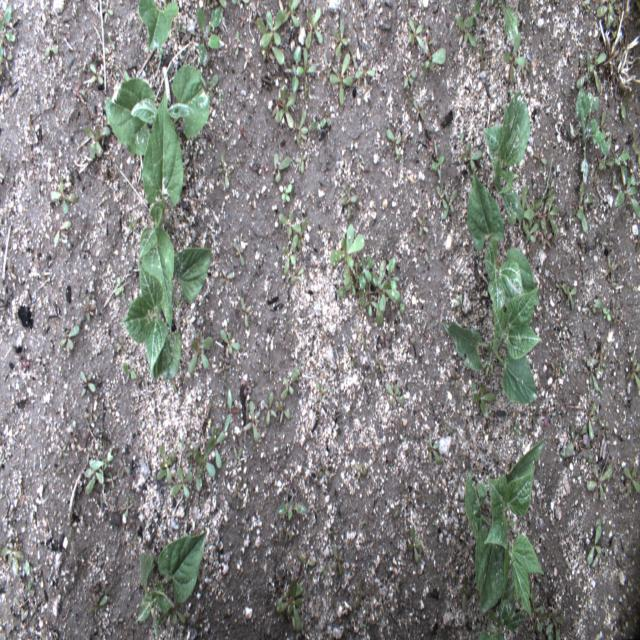crop: (464, 437, 547, 623), (120, 246, 213, 392), (439, 283, 544, 404), (138, 91, 184, 337), (466, 172, 540, 320), (106, 65, 210, 156), (134, 530, 207, 639), (483, 90, 530, 221), (478, 570, 528, 640), (138, 0, 180, 52), (500, 0, 518, 49)
weed: (575, 80, 608, 185), (329, 222, 374, 297), (364, 258, 401, 326), (197, 6, 223, 67), (525, 190, 559, 234), (276, 578, 302, 633), (613, 164, 639, 218), (576, 51, 607, 96), (256, 19, 285, 66), (194, 436, 215, 491), (506, 183, 534, 224), (330, 53, 352, 105), (504, 32, 526, 84), (570, 182, 592, 234), (528, 588, 549, 638), (422, 34, 446, 76), (188, 337, 213, 376), (50, 177, 77, 213), (274, 85, 296, 129), (586, 464, 612, 501), (0, 538, 24, 577), (260, 10, 284, 49), (84, 126, 111, 160), (156, 444, 176, 486), (472, 384, 496, 419), (586, 341, 608, 379), (586, 516, 602, 565), (85, 456, 105, 495), (243, 399, 261, 442), (304, 8, 323, 48), (276, 498, 308, 521), (168, 468, 192, 498), (456, 14, 478, 46), (0, 2, 17, 42), (303, 48, 316, 100), (282, 232, 298, 274), (278, 212, 302, 240), (216, 153, 234, 189), (210, 426, 225, 468), (580, 403, 597, 440), (224, 388, 238, 432), (461, 142, 482, 171), (341, 182, 357, 220), (279, 0, 301, 27), (292, 45, 304, 93), (280, 368, 298, 400), (384, 381, 405, 407), (385, 129, 401, 163), (274, 152, 292, 182), (262, 390, 277, 426), (355, 64, 375, 91), (522, 212, 540, 242), (294, 108, 308, 146), (334, 19, 348, 57), (605, 145, 629, 167), (60, 324, 80, 350), (408, 18, 424, 50), (442, 186, 457, 220), (624, 464, 639, 498), (546, 612, 564, 640), (427, 433, 443, 464), (408, 525, 421, 563), (220, 330, 240, 354), (626, 355, 640, 389), (79, 370, 96, 397), (561, 283, 577, 309), (53, 221, 71, 244), (240, 296, 252, 329), (275, 398, 291, 422), (402, 63, 417, 88), (89, 594, 108, 613), (82, 296, 96, 321), (98, 0, 112, 25), (89, 63, 104, 85), (362, 298, 378, 318), (312, 116, 331, 132), (233, 240, 244, 265), (220, 268, 233, 288), (232, 446, 243, 468), (436, 186, 447, 208), (122, 362, 136, 379), (0, 54, 13, 72), (295, 154, 306, 173), (418, 213, 427, 236), (281, 184, 292, 202), (46, 42, 58, 58), (432, 156, 444, 169), (602, 307, 612, 321)
